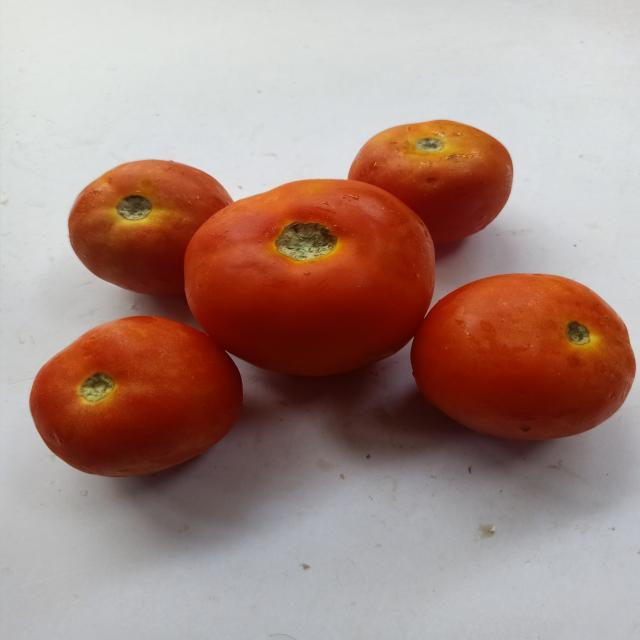Tomato: (178, 176, 440, 381), (22, 310, 261, 488), (406, 269, 640, 446), (55, 151, 239, 297), (345, 115, 527, 247)
